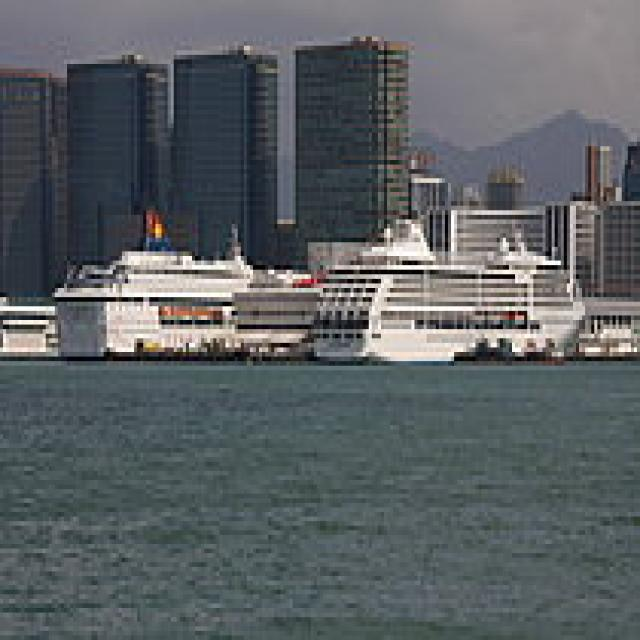Ship: (303, 216, 598, 376), (44, 225, 279, 367)
